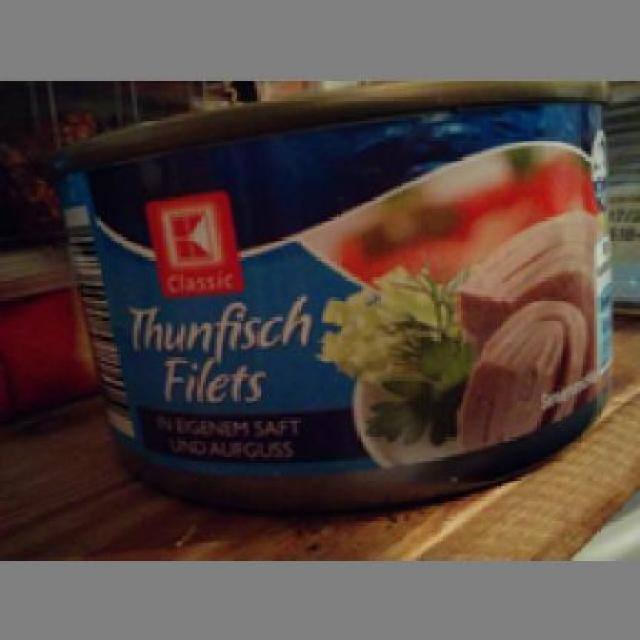Fish: (49, 80, 612, 503)
